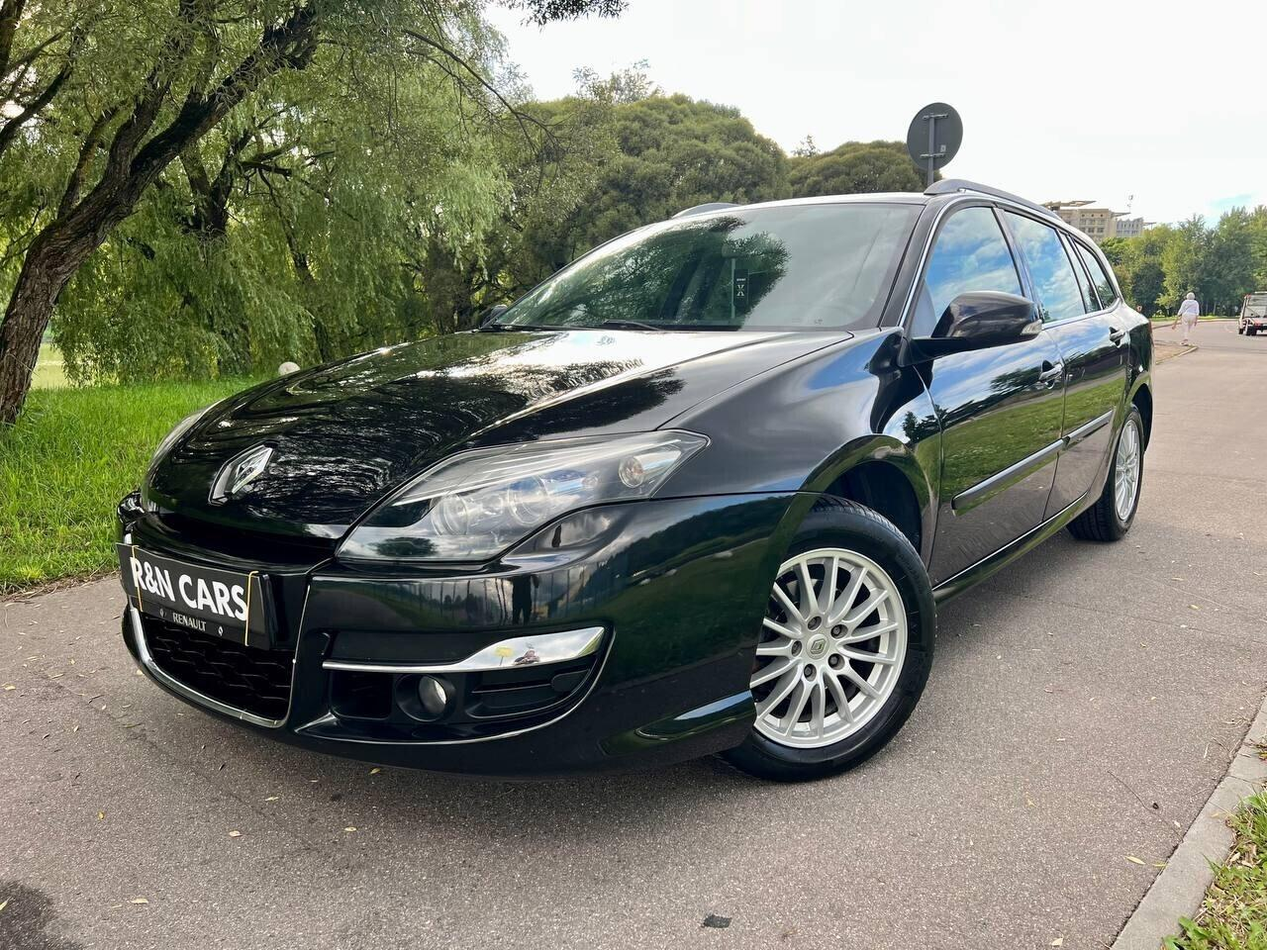Laguna_2010-2015: (111, 171, 1164, 799)
